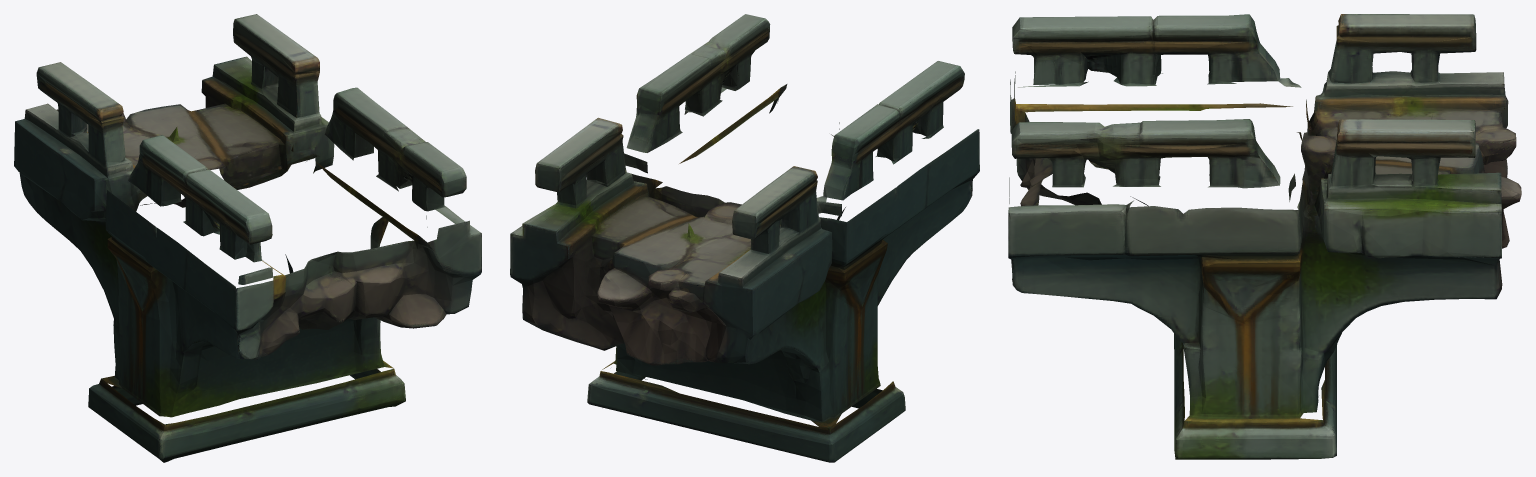
The model's file is bridge_span.glb.
3 views of the same model, side by side, from view 1: azimuth 30°, elevation 25°; view 2: azimuth 150°, elevation 25°; view 3: azimuth 270°, elevation 25° (orthographic). The views are drawn at different scales.
Visible parts, largest first — view 1: world; view 2: world; view 3: world.
Boxes of the visible parts, x1,y1,x2,y2 form: world: [14, 14, 481, 462]; world: [510, 14, 979, 462]; world: [1008, 14, 1521, 459].
Bounding box in the file's own units: 0.3304 × 0.3809 × 0.538.
1 material, 1 textured.
